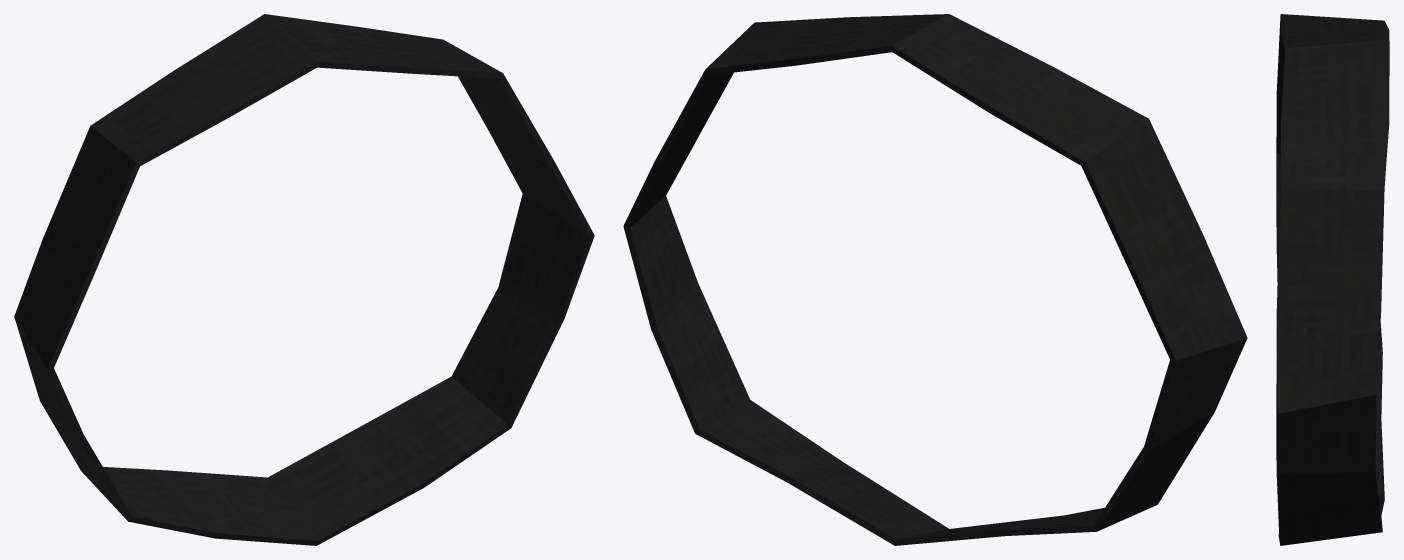
Rendered from belt_web_nva.glb.
The picture shows the model from 3 angles, left to right: view 1: azimuth 30°, elevation 25°; view 2: azimuth 150°, elevation 25°; view 3: azimuth 270°, elevation 25°; orthographic projection. The views are drawn at different scales.
Parts seen in each view (by area): view 1: web_belt; view 2: web_belt; view 3: web_belt.
Boxes of the visible parts, x1,y1,x2,y2 form: web_belt: (14, 14, 594, 545); web_belt: (623, 14, 1247, 545); web_belt: (1276, 14, 1389, 545).
Size of the model in its own units: 0.3558 by 0.307 by 0.0647.
Materials: 1 (1 with a texture image).
